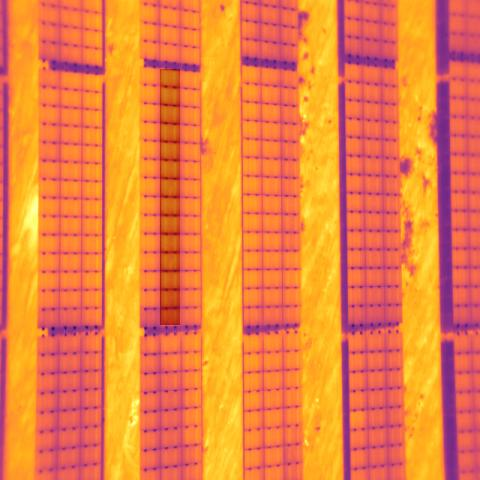fault: (160, 69, 180, 325)
